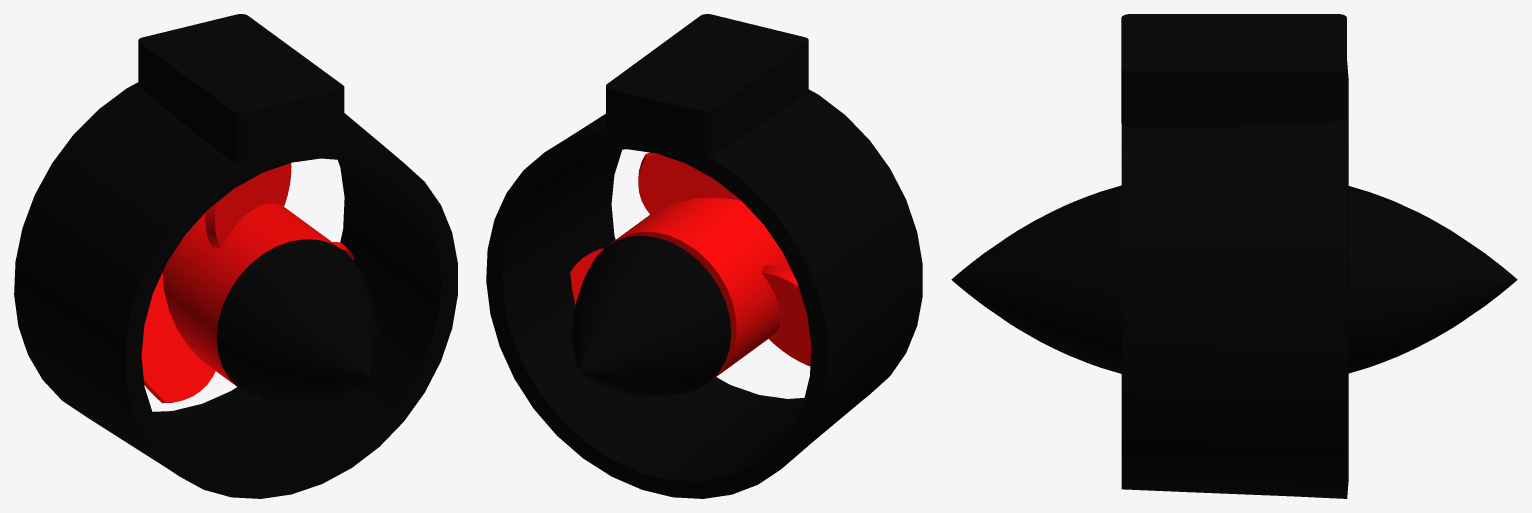
File: Thruster_U2.gltf
3 views of the same model, side by side, from view 1: azimuth 30°, elevation 25°; view 2: azimuth 150°, elevation 25°; view 3: azimuth 270°, elevation 25° (orthographic). The views are drawn at different scales.
Parts seen in each view (by area): view 1: Case, Mounting bracket, Cover, Hub, Blade005, Blade; view 2: Case, Cover002, Mounting bracket, Hub, Blade, Blade005, Blade004; view 3: Case, Mounting bracket, Cover, Cover002.
Boxes of the visible parts, box(x1,y1,x2,y2) form: Case: box(14, 82, 457, 498); Mounting bracket: box(138, 14, 344, 164); Cover: box(216, 239, 378, 402); Hub: box(162, 203, 352, 398); Blade005: box(141, 272, 215, 403); Blade: box(205, 163, 291, 247); Case: box(486, 89, 922, 498); Cover002: box(572, 235, 731, 396); Mounting bracket: box(606, 14, 808, 155); Hub: box(610, 197, 791, 380); Blade: box(638, 152, 741, 214); Blade005: box(761, 265, 811, 366); Blade004: box(570, 248, 604, 305); Case: box(1121, 61, 1348, 498); Mounting bracket: box(1121, 14, 1346, 126); Cover: box(951, 185, 1121, 373); Cover002: box(1348, 186, 1517, 373).
Size of the model in its own units: 0.0719 by 0.0789 by 0.093.
